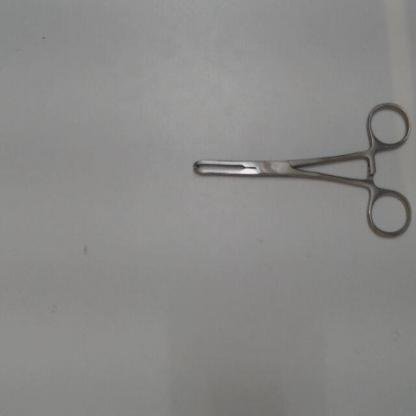Allis Tissue Forceps: (188, 95, 416, 247)
